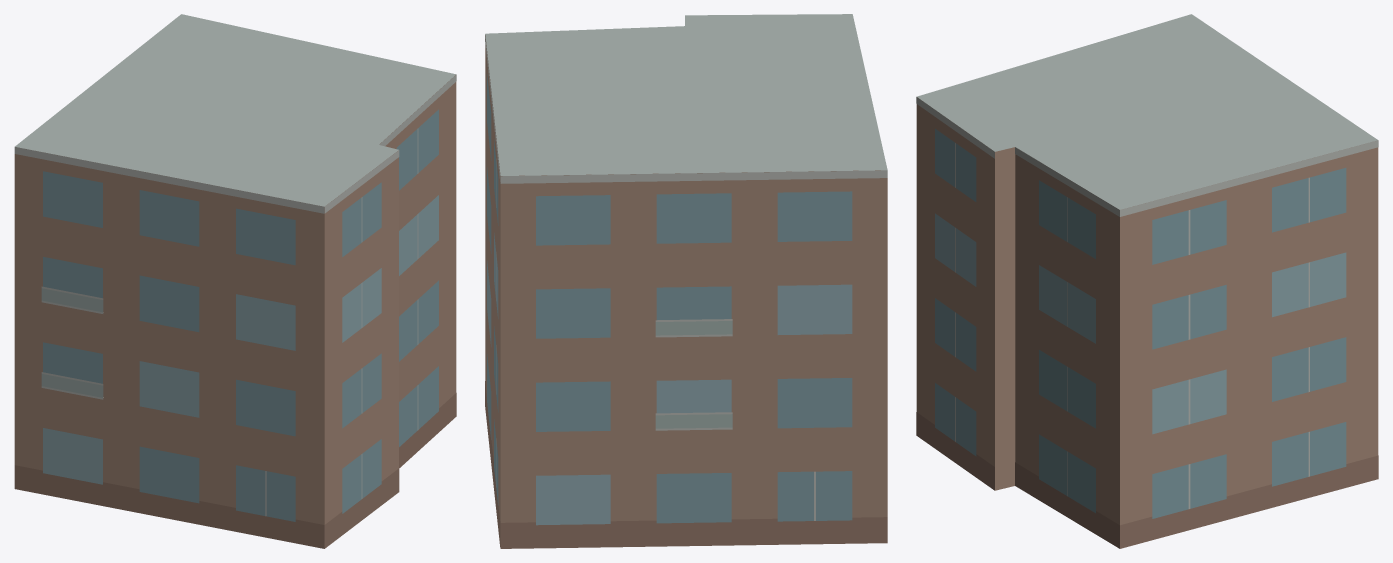
File: survey-upis-32844958.glb
3 renders of one model, left to right at view 1: azimuth 30°, elevation 25°; view 2: azimuth 150°, elevation 25°; view 3: azimuth 270°, elevation 25°, orthographic. The views are drawn at different scales.
Visible parts, largest first — view 1: survey-upis-32844958.tmp; view 2: survey-upis-32844958.tmp; view 3: survey-upis-32844958.tmp.
Part boxes in pixels (box(x1,y1,x2,y2)): survey-upis-32844958.tmp: box(14, 14, 456, 548); survey-upis-32844958.tmp: box(485, 14, 887, 548); survey-upis-32844958.tmp: box(916, 14, 1378, 548).
Size of the model in its own units: 14.52 by 11.7 by 14.46.
